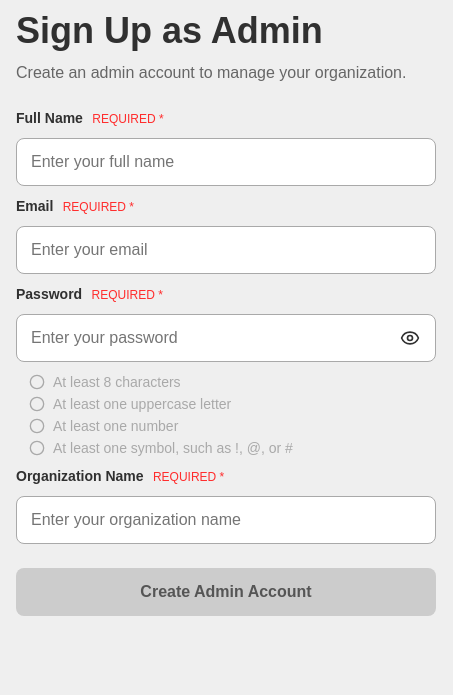
AdminSignup › shows an error when the email is already registered
This screenshot has width=453, height=695.
Type "William Test" into the field labelled "Full Name" at (226, 162), box left=16, top=138, right=436, bottom=186
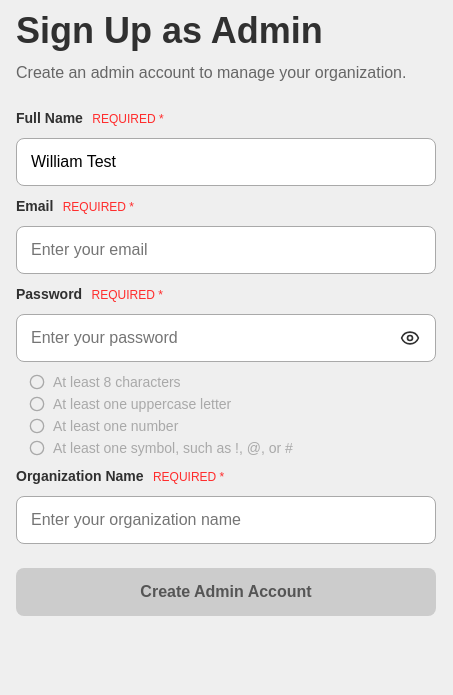
Type "admin.test@example.com" into the field labelled "Email" at (226, 250), box left=16, top=226, right=436, bottom=274
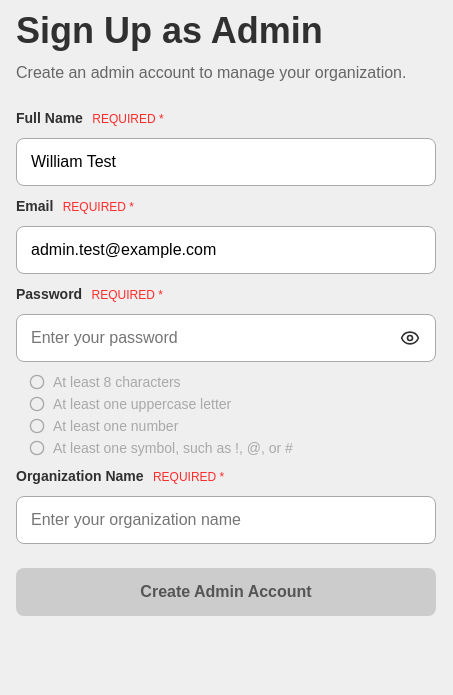
Type "LocalTestPass123!" into the password field labelled "Password" at (226, 338), box left=16, top=314, right=436, bottom=362
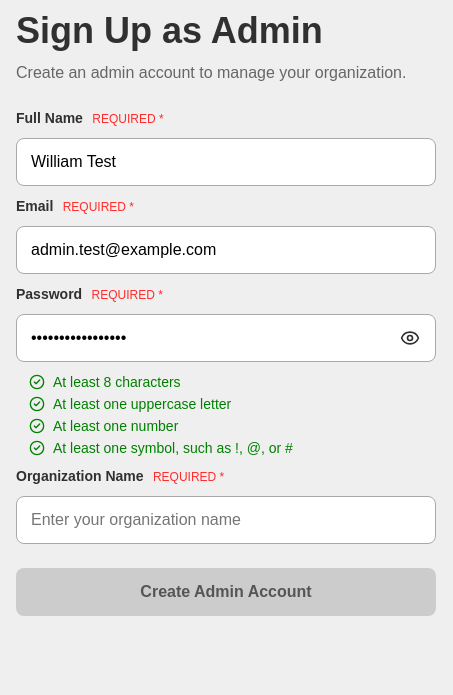
Type "TurnFlow Test" into the field labelled "Organization Name" at (226, 520), box left=16, top=496, right=436, bottom=544
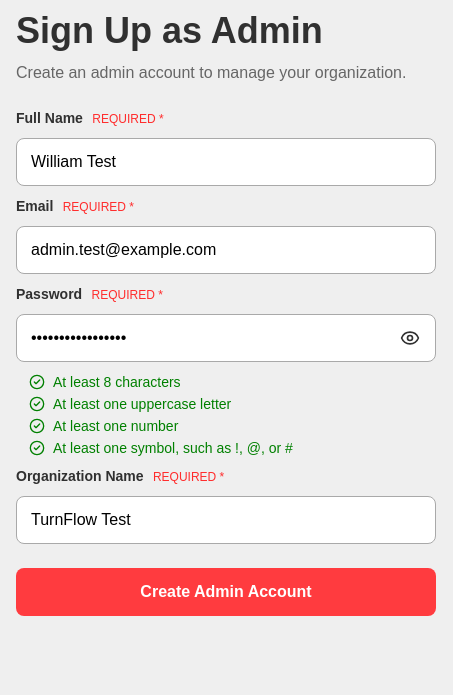
Click the button "Create Admin Account" at (226, 592), box left=16, top=568, right=436, bottom=616
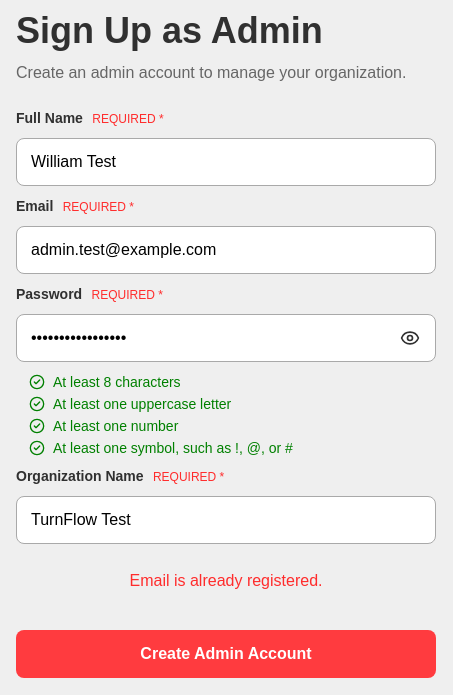
Expected: the message reads "Email is already registered.", left=130, top=572, right=322, bottom=589
